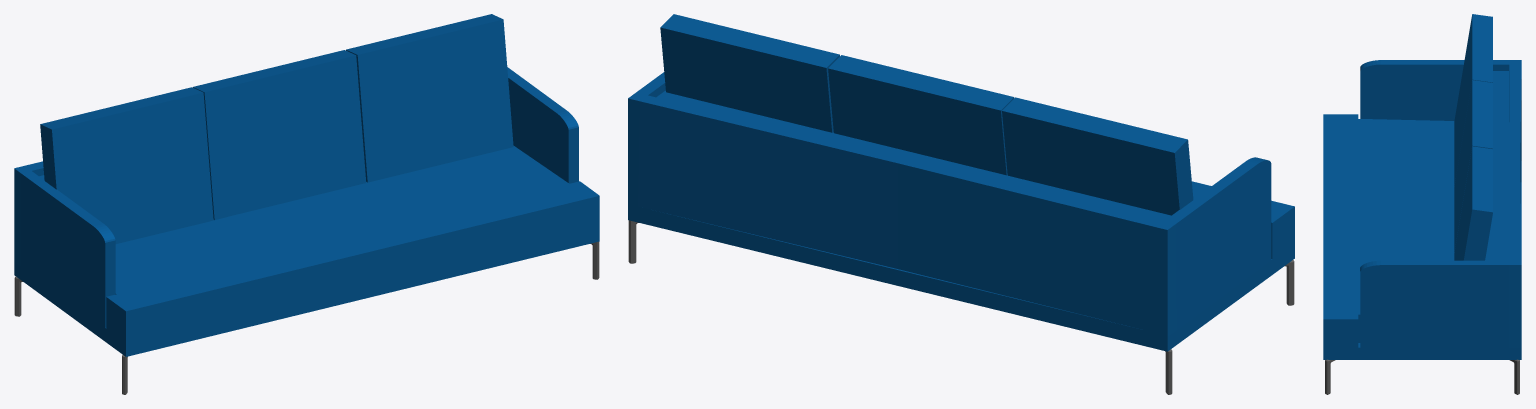
Rendered from Sofa.fbx.
3 views of the same model, side by side, from view 1: azimuth 30°, elevation 25°; view 2: azimuth 150°, elevation 25°; view 3: azimuth 270°, elevation 25° (orthographic). The views are drawn at different scales.
Visible parts, largest first — view 1: Cube.004, Cube.006, Cube.005, Cube.007, Cube.001, Cube, Cube.002, Cube.003; view 2: Cube.001, Cube.007, Cube.006, Cube.005, Cube, Cube.008, Cube.003, Cube.004; view 3: Cube.001, Cube.004, Cube.005, Cube.008, Cube.006, Cube.007, Cube, Cube.002, Cube.003.
Boxes of the visible parts, bbox=[...] form: Cube.004: bbox=[106, 145, 599, 329]; Cube.006: bbox=[193, 50, 366, 220]; Cube.005: bbox=[346, 14, 513, 182]; Cube.007: bbox=[40, 87, 213, 243]; Cube.001: bbox=[14, 67, 578, 327]; Cube: bbox=[14, 227, 599, 356]; Cube.002: bbox=[106, 213, 599, 342]; Cube.003: bbox=[14, 241, 599, 394]; Cube.001: bbox=[628, 72, 1271, 335]; Cube.007: bbox=[1002, 97, 1193, 215]; Cube.006: bbox=[828, 55, 1014, 175]; Cube.005: bbox=[660, 14, 839, 132]; Cube: bbox=[628, 204, 1294, 351]; Cube.008: bbox=[656, 91, 1170, 221]; Cube.003: bbox=[628, 220, 1294, 394]; Cube.004: bbox=[1192, 181, 1294, 242]; Cube.001: bbox=[1360, 60, 1521, 347]; Cube.004: bbox=[1323, 114, 1509, 335]; Cube.005: bbox=[1454, 146, 1492, 260]; Cube.008: bbox=[1485, 71, 1508, 260]; Cube.006: bbox=[1454, 80, 1492, 252]; Cube.007: bbox=[1454, 14, 1492, 186]; Cube: bbox=[1323, 161, 1521, 359]; Cube.002: bbox=[1323, 330, 1360, 347]; Cube.003: bbox=[1325, 359, 1519, 394].
Bounding box in the file's own units: 226 × 91.97 × 91.97.
